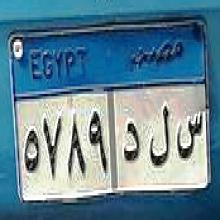5: (21, 127, 41, 179)
7: (42, 106, 63, 183)
8: (64, 111, 87, 184)
9: (87, 108, 109, 182)
daal: (120, 115, 142, 173)
laam: (147, 93, 171, 178)
seen: (176, 106, 203, 168)
